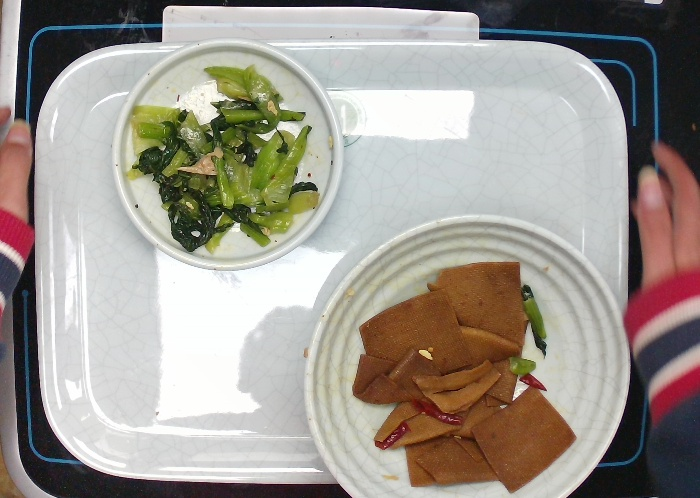JYsf-Da_Tang_Wan: (296, 212, 641, 498)
JYsf-Xiao_Yuan_Pan: (108, 31, 352, 273)
